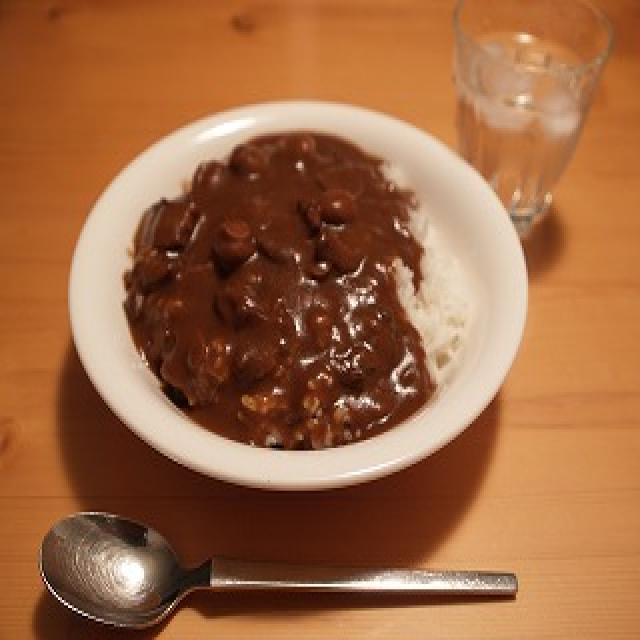Beef Curry: (119, 130, 428, 448)
